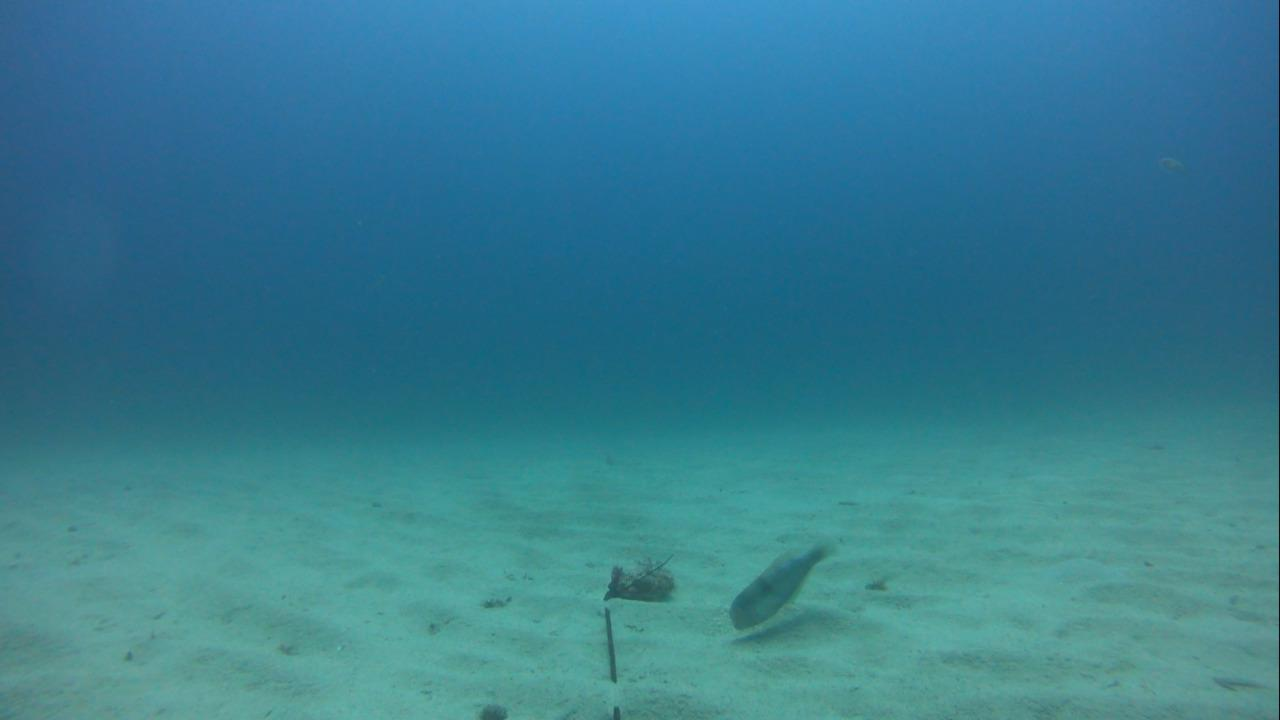raor: (725, 540, 832, 633)
